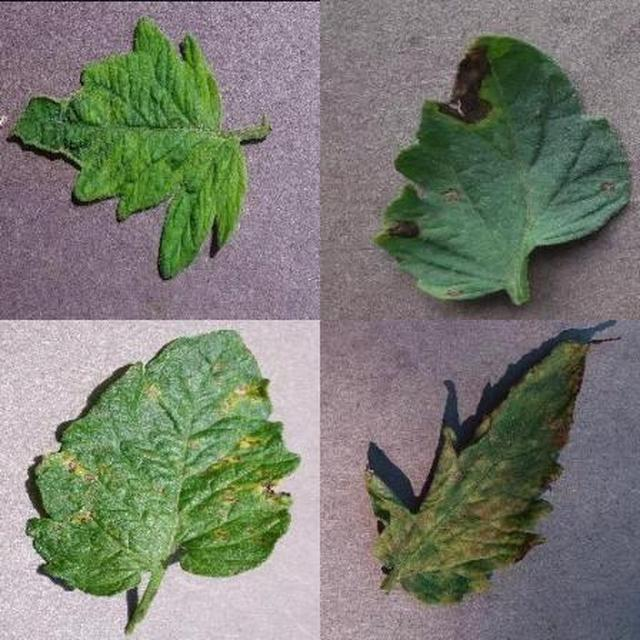Mosaic Virus Leaf: (181, 210, 640, 640)
